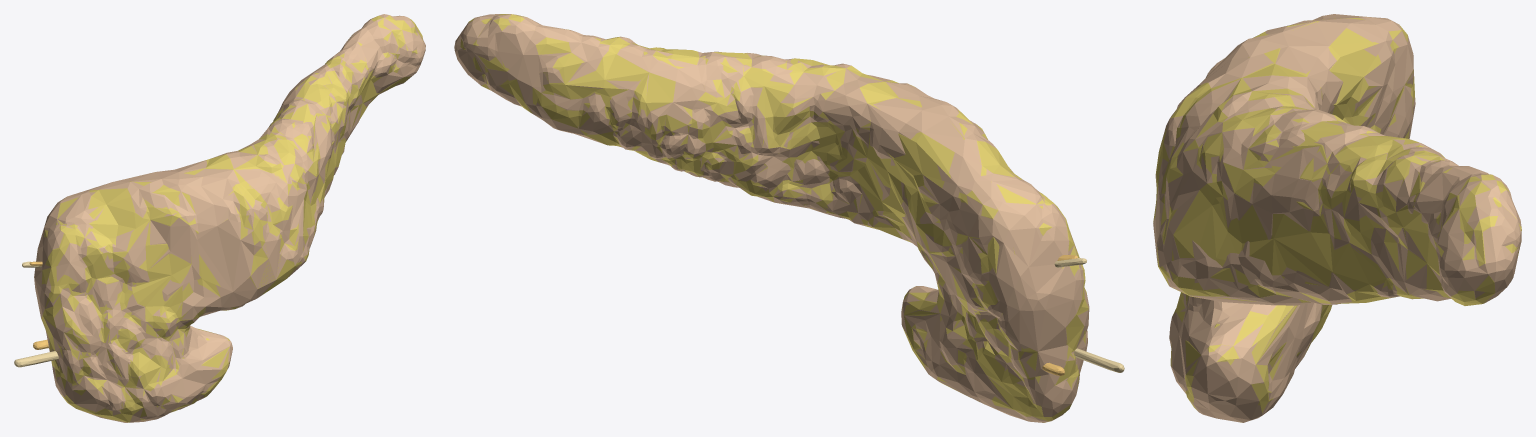
The model's file is pancreas.glb.
3 views of the same model, side by side, from view 1: azimuth 30°, elevation 25°; view 2: azimuth 150°, elevation 25°; view 3: azimuth 270°, elevation 25° (orthographic). The views are drawn at different scales.
Parts seen in each view (by area): view 1: pancreas, parenchyma of pancreas, pancreatic duct tree; view 2: pancreas, parenchyma of pancreas, pancreatic duct tree; view 3: pancreas, parenchyma of pancreas.
Part boxes in pixels (x1,y1,x2,y2): pancreas: (34,14,425,422); parenchyma of pancreas: (41,15,423,422); pancreatic duct tree: (14,261,58,367); pancreas: (454,14,1089,422); parenchyma of pancreas: (460,14,1088,422); pancreatic duct tree: (1054,258,1124,372); pancreas: (1153,14,1521,422); parenchyma of pancreas: (1153,18,1521,422).
Bounding box in the file's own units: 129 × 73.74 × 50.97.
